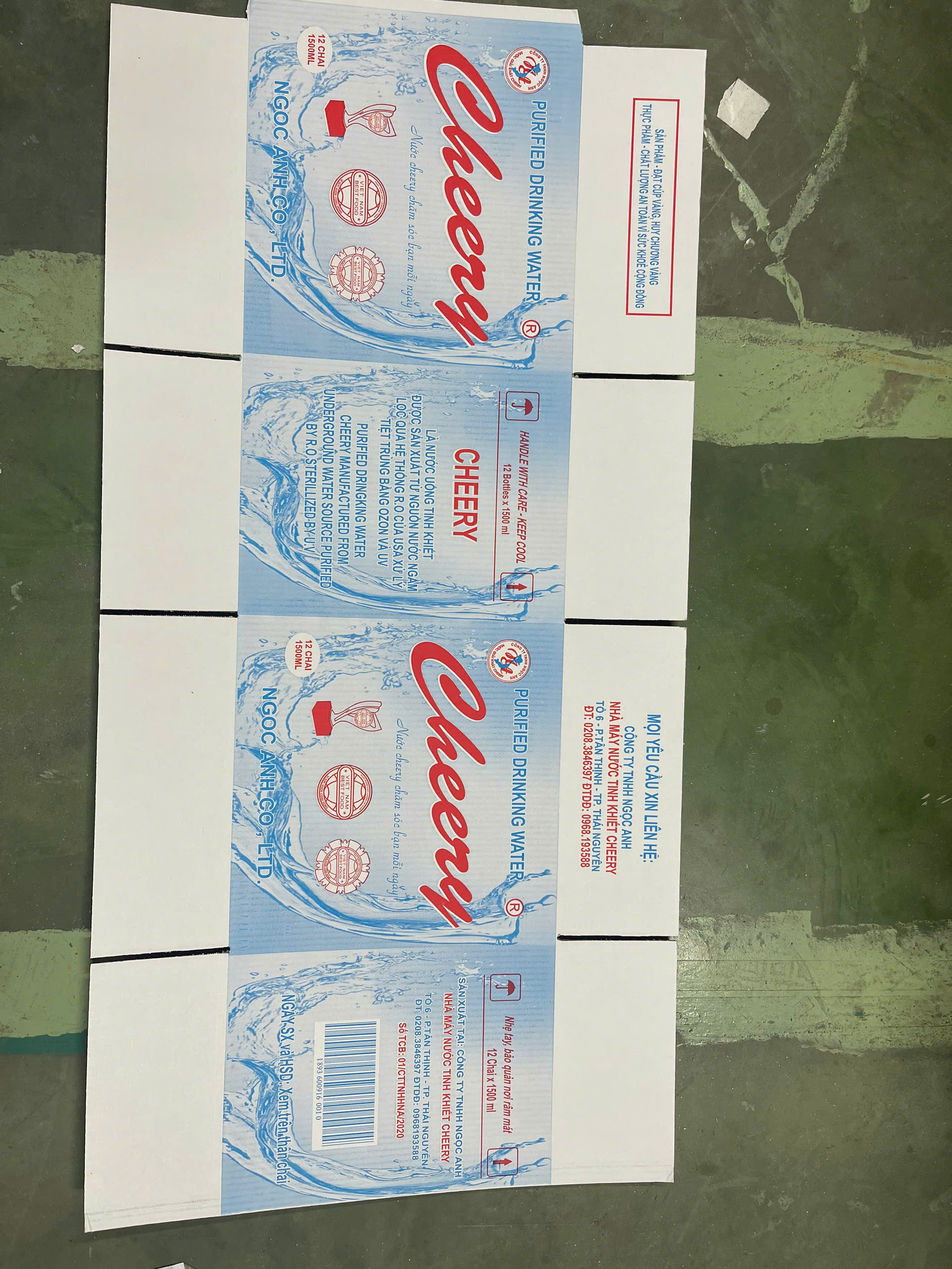box: (74, 0, 707, 1247)
